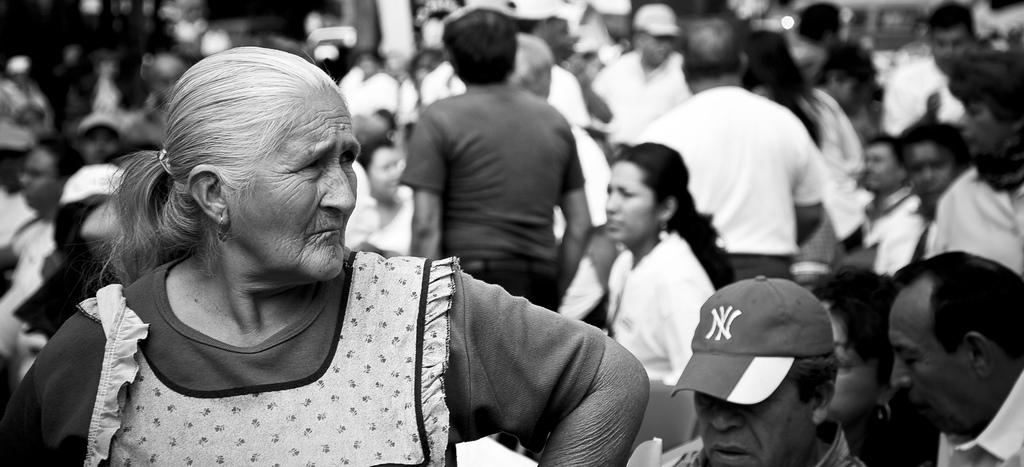Hat: (670, 273, 836, 406), (629, 1, 679, 36)
